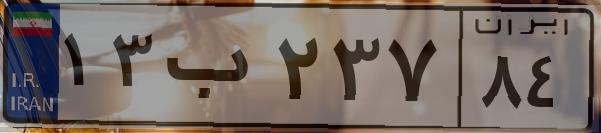1: (57, 26, 110, 100)
2: (270, 28, 330, 110)
3: (330, 28, 385, 110), (110, 28, 158, 98)
4: (525, 38, 570, 115)
7: (385, 28, 445, 110)
8: (475, 38, 525, 113)
ب: (158, 20, 270, 120)
